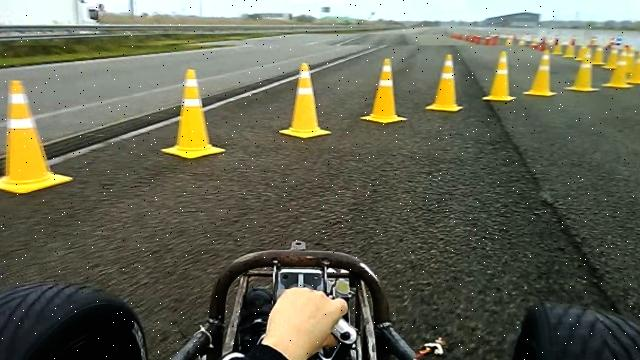yellow cone: (0, 78, 74, 194), (160, 68, 226, 160), (277, 61, 332, 139), (360, 56, 408, 124), (425, 52, 464, 112), (482, 49, 517, 102), (523, 48, 557, 97), (564, 52, 600, 92), (604, 46, 633, 88), (627, 46, 640, 85)
